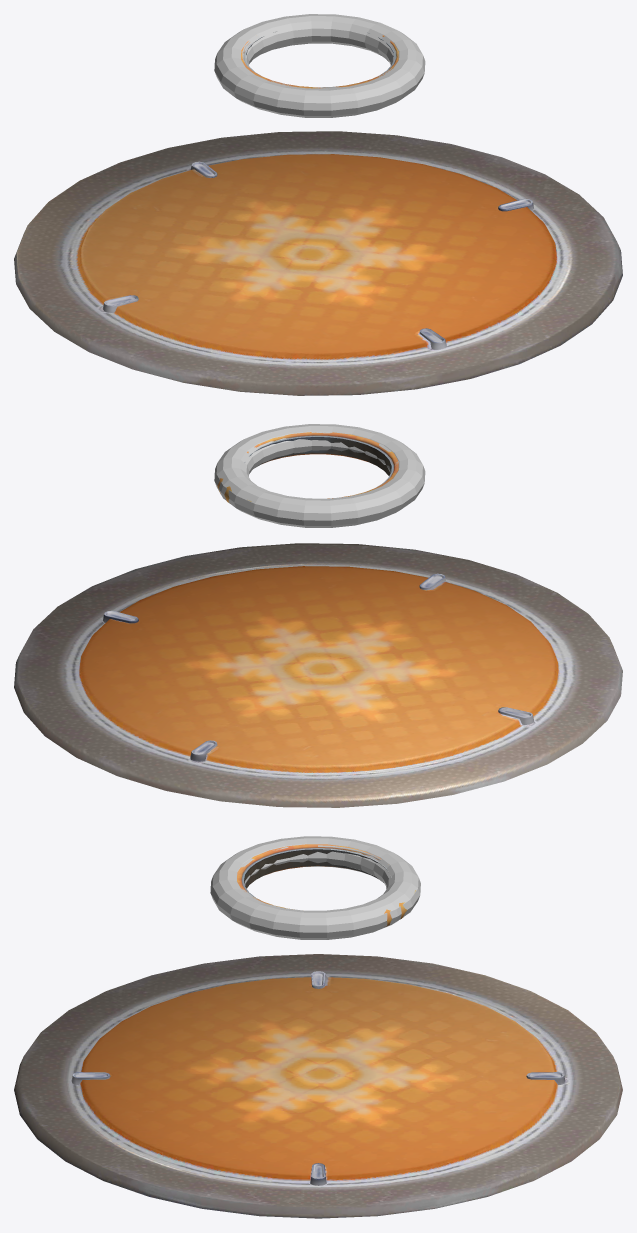
File: pref_TPC_v2_NeutralScoreArea03_winter_orange_interfere_lv1.fbx
3 views of the same model, one above another, from view 1: azimuth 30°, elevation 25°; view 2: azimuth 150°, elevation 25°; view 3: azimuth 270°, elevation 25° (orthographic).
Parts seen in each view (by area): view 1: sm_prop_platform06a_lv1, sm_fx_0037_ring_04_xz (3), sm_prop_platform06b_lv1; view 2: sm_prop_platform06a_lv1, sm_fx_0037_ring_04_xz (3), sm_prop_platform06b_lv1; view 3: sm_prop_platform06a_lv1, sm_fx_0037_ring_04_xz (3), sm_prop_platform06b_lv1.
Boxes of the visible parts, <box> form: sm_prop_platform06a_lv1: <box>14,131,622,395</box>; sm_fx_0037_ring_04_xz (3): <box>214,14,425,117</box>; sm_prop_platform06b_lv1: <box>241,31,398,88</box>; sm_prop_platform06a_lv1: <box>14,543,622,807</box>; sm_fx_0037_ring_04_xz (3): <box>214,424,425,527</box>; sm_prop_platform06b_lv1: <box>217,432,398,502</box>; sm_prop_platform06a_lv1: <box>14,954,622,1218</box>; sm_fx_0037_ring_04_xz (3): <box>210,836,420,939</box>; sm_prop_platform06b_lv1: <box>237,844,415,926</box>.
Size of the model in its own units: 7.46 by 2.9 by 7.46.
